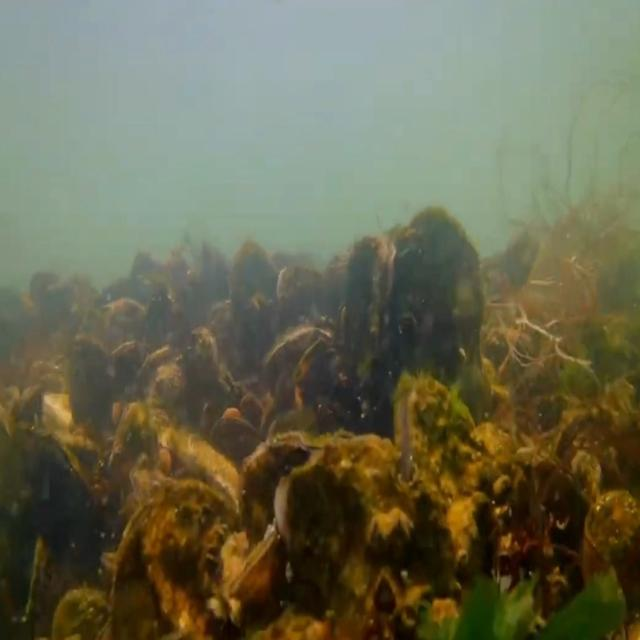Oyster-Closed: (237, 429, 354, 639), (0, 422, 95, 640), (491, 447, 592, 640), (105, 399, 160, 535), (227, 524, 280, 607)
Oyster-Indeterminate: (274, 432, 450, 640), (109, 481, 243, 640), (390, 207, 483, 430), (338, 234, 396, 409), (581, 487, 640, 640), (65, 334, 114, 449), (179, 427, 240, 498), (180, 326, 219, 433)
Oyster-Open: (393, 369, 504, 640), (260, 326, 332, 418), (133, 346, 184, 412)
